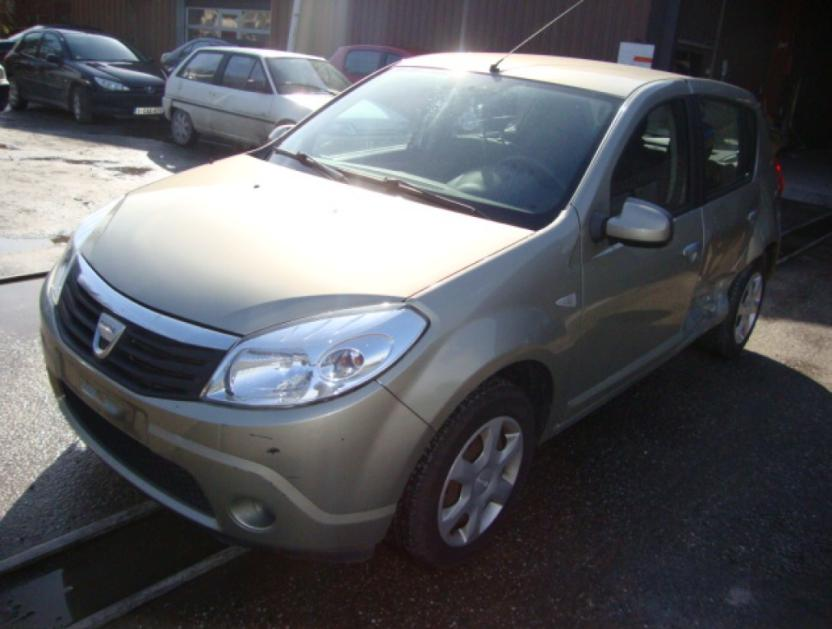Back-door: (682, 80, 761, 336)
Back-wheel: (697, 261, 764, 357)
Back-window: (697, 100, 741, 198)
Fender: (381, 206, 583, 432)
Front-bumper: (41, 268, 434, 563)
Front-door: (567, 78, 704, 410)
Front-wheel: (391, 377, 531, 564)
Front-window: (609, 102, 674, 214)
Grille: (49, 260, 222, 400)
Headlight: (203, 302, 427, 407), (47, 239, 76, 302)
Hood: (73, 153, 534, 350)
Mirror: (586, 198, 669, 243), (269, 124, 294, 141)
Quarter-panel: (744, 158, 783, 265)
Rocker-panel: (541, 310, 730, 445)
Roof: (399, 50, 690, 97)
Windshield: (251, 63, 623, 229)
